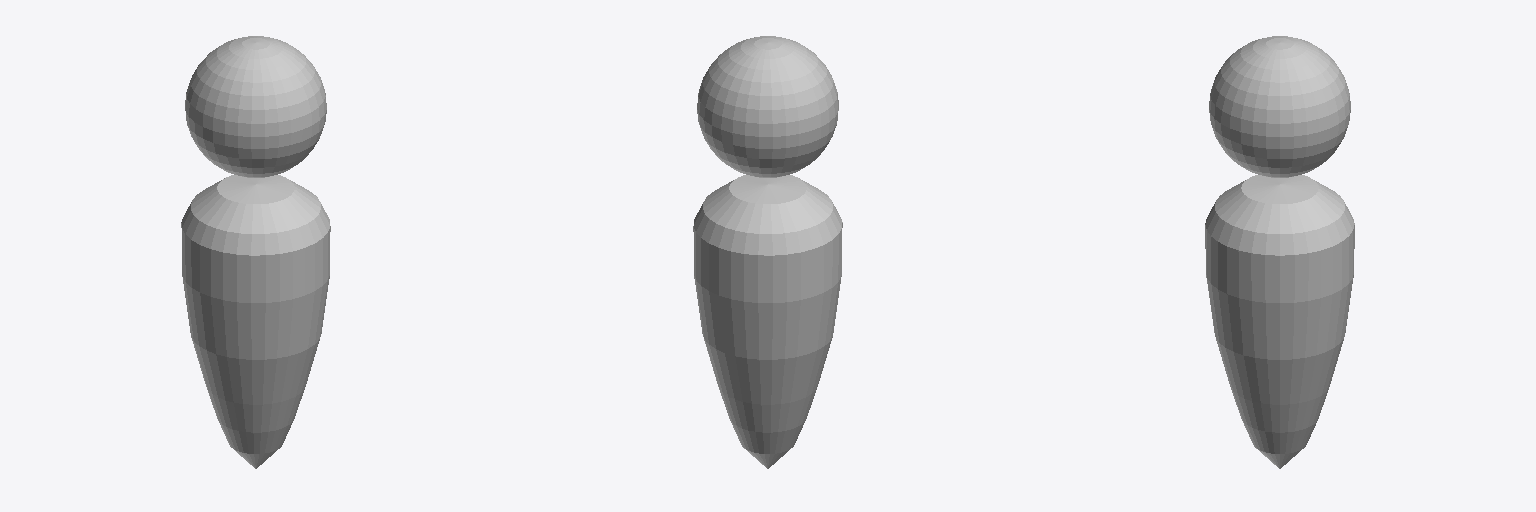
Rendered from npc_spirit.obj.
3 renders of one model, left to right at view 1: azimuth 30°, elevation 25°; view 2: azimuth 150°, elevation 25°; view 3: azimuth 270°, elevation 25°, orthographic.
Visible parts, largest first — view 1: Cylinder, Sphere; view 2: Cylinder, Sphere; view 3: Cylinder, Sphere.
Boxes of the visible parts, x1=… form: Cylinder: x1=181, y1=175, x2=330, y2=468; Sphere: x1=185, y1=36, x2=326, y2=177; Cylinder: x1=693, y1=175, x2=842, y2=468; Sphere: x1=697, y1=36, x2=838, y2=177; Cylinder: x1=1205, y1=175, x2=1354, y2=468; Sphere: x1=1209, y1=36, x2=1350, y2=177.
Size of the model in its own units: 0.5738 by 1.81 by 0.5738.